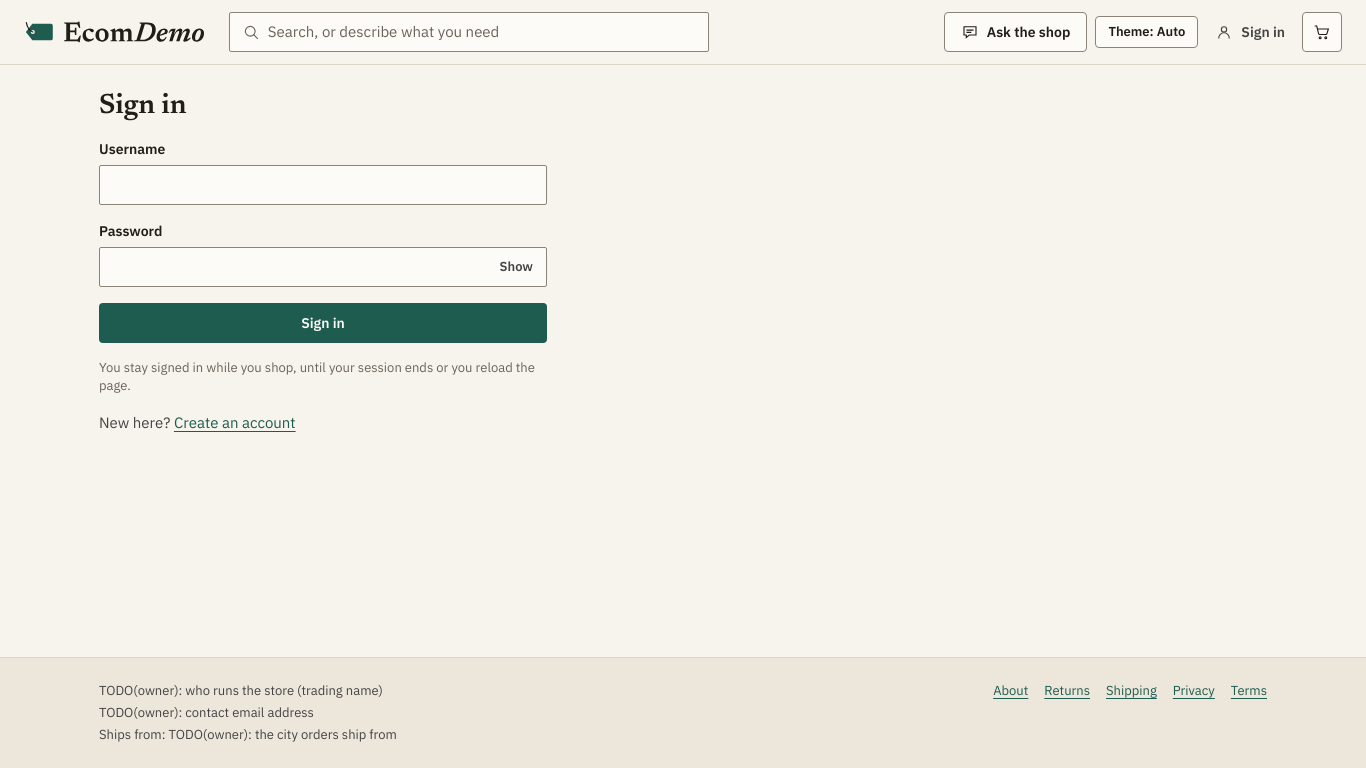
Scenario: signing in, when the answers are not what the backend promised › does not keep the token of a login whose profile could not be fetched
Expected: the heading "Sign in" is shown, [99,89,187,123]
Type "asha.rao" into the field labelled "Username". click: point(323, 185)
box: [112,166,534,204]
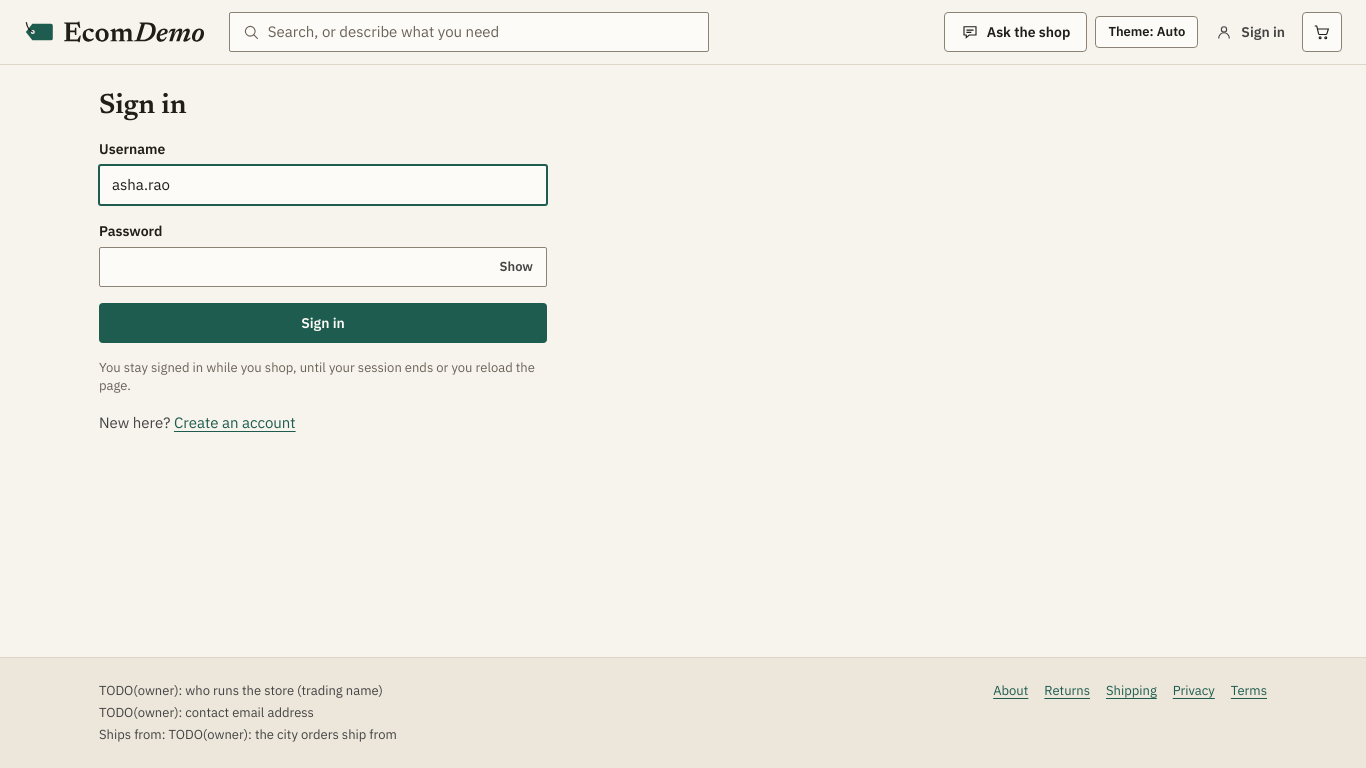
Type "correct horse" into the password field labelled "Password". click: point(297, 267)
box: [112,248,483,286]
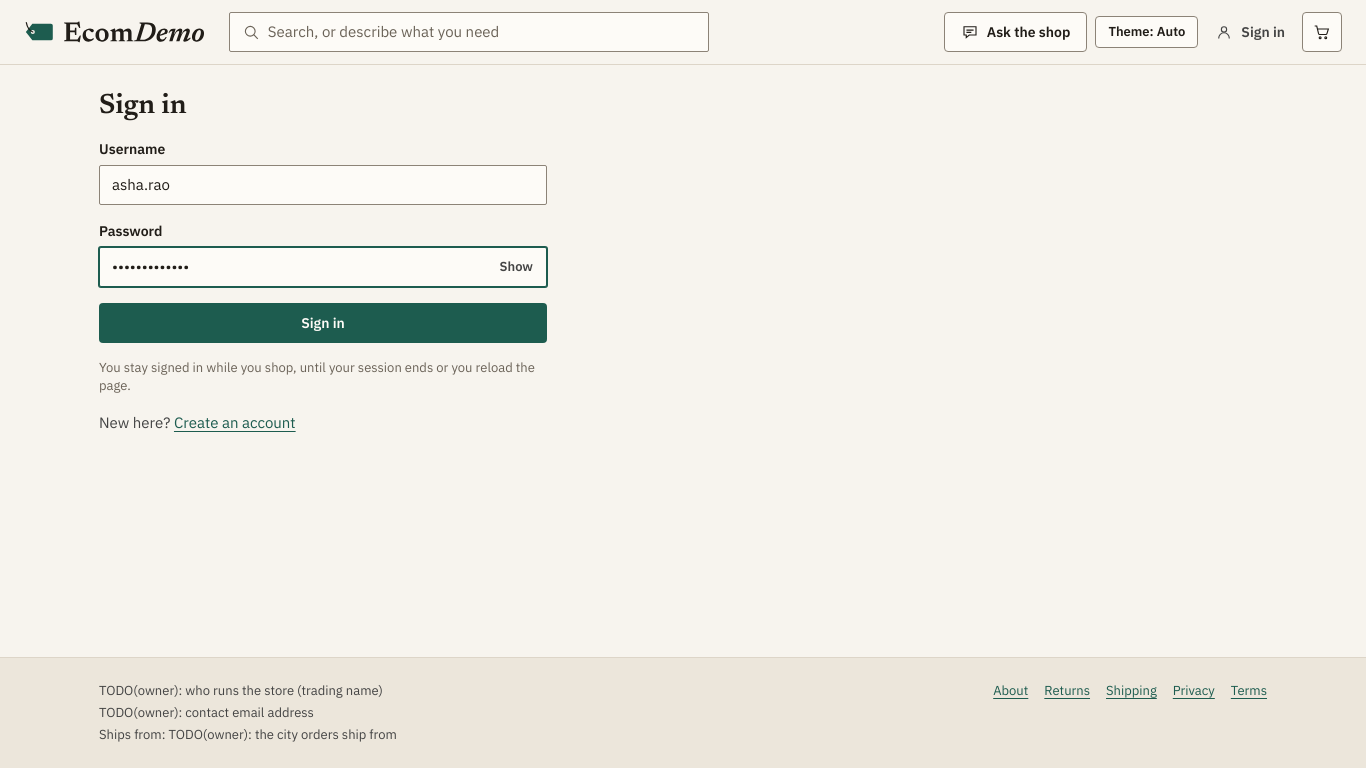
Click the button "Sign in". click: point(323, 323)
box: [99,303,547,343]
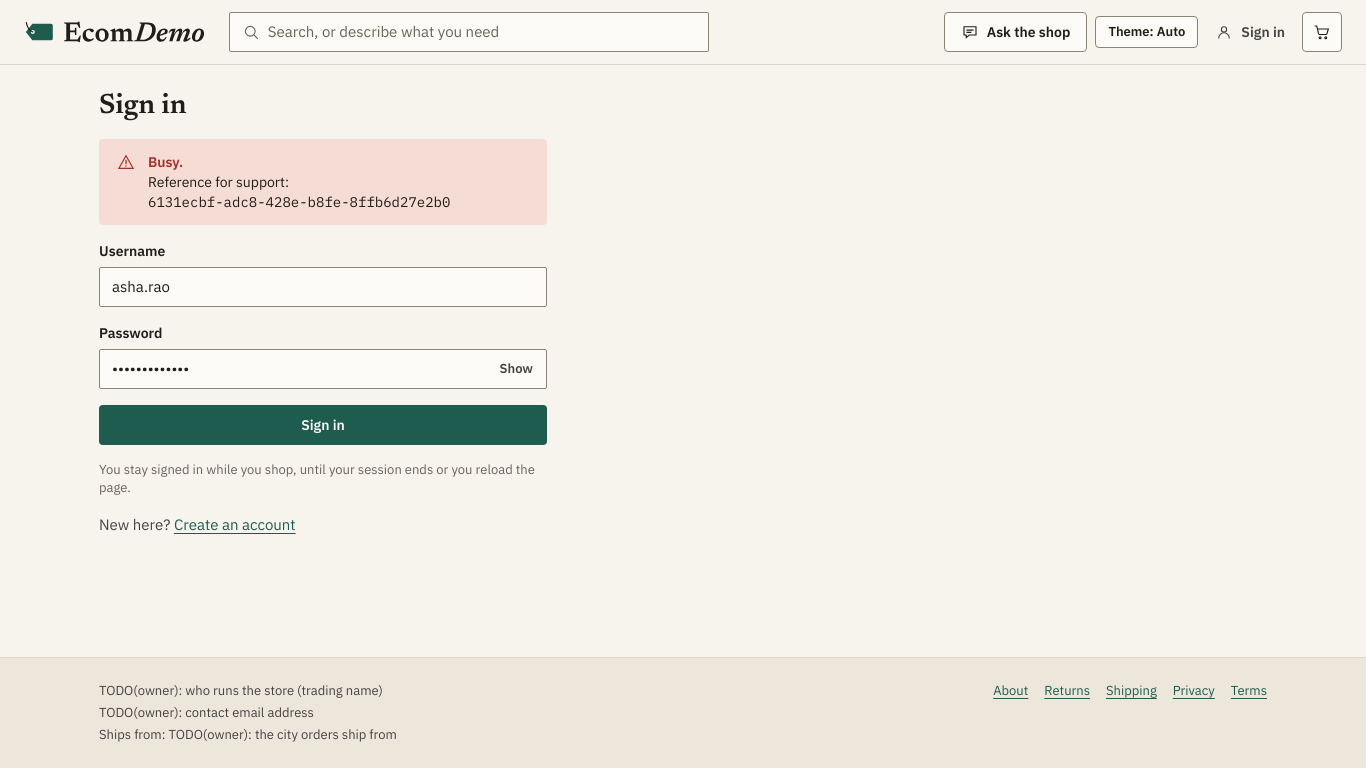
Expected: the message is shown, [99,139,547,225]
